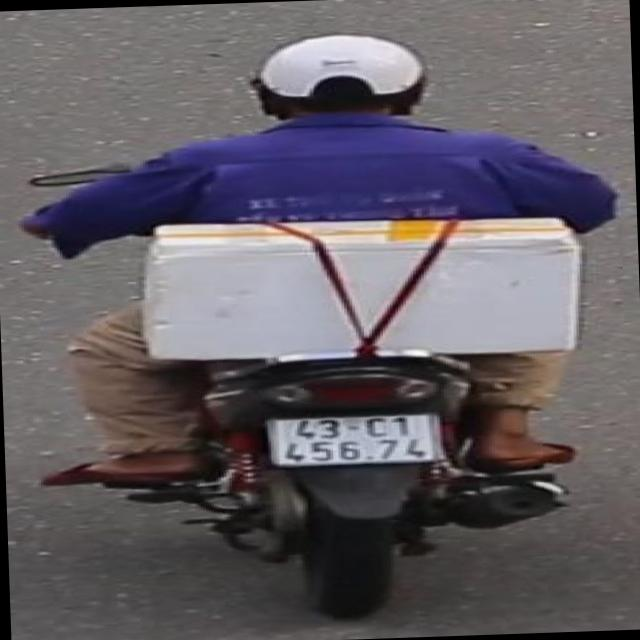LP: (260, 406, 447, 469)
helmet: (248, 26, 434, 130)
